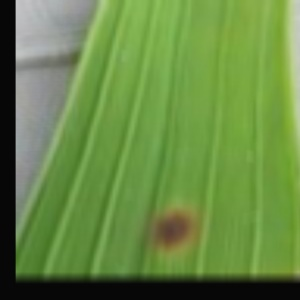Bacterial_Leaf_Blight: (144, 200, 206, 268)
